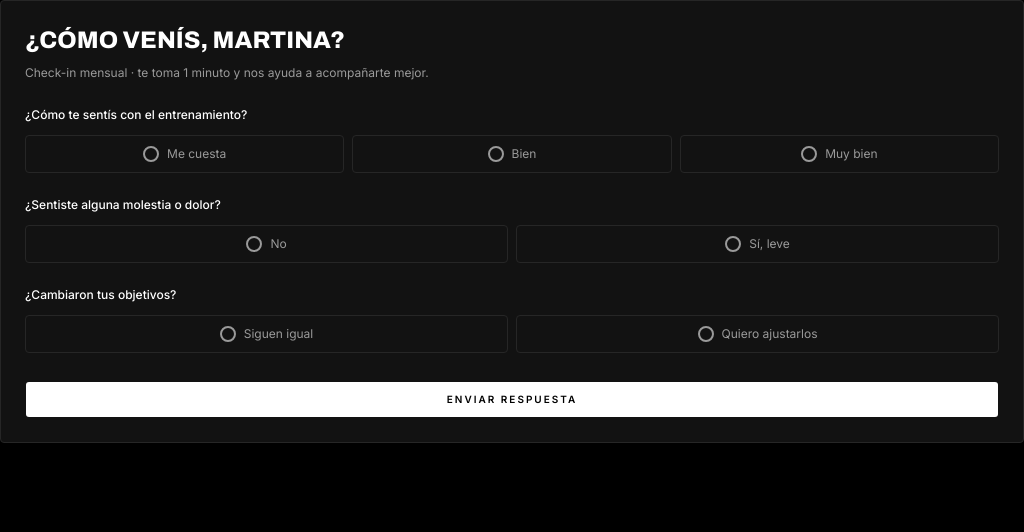
Test: CheckinForm › asks for every answer before sending
Step 1. Click the button "Enviar respuesta" → click(512, 399), box [25, 380, 999, 418]
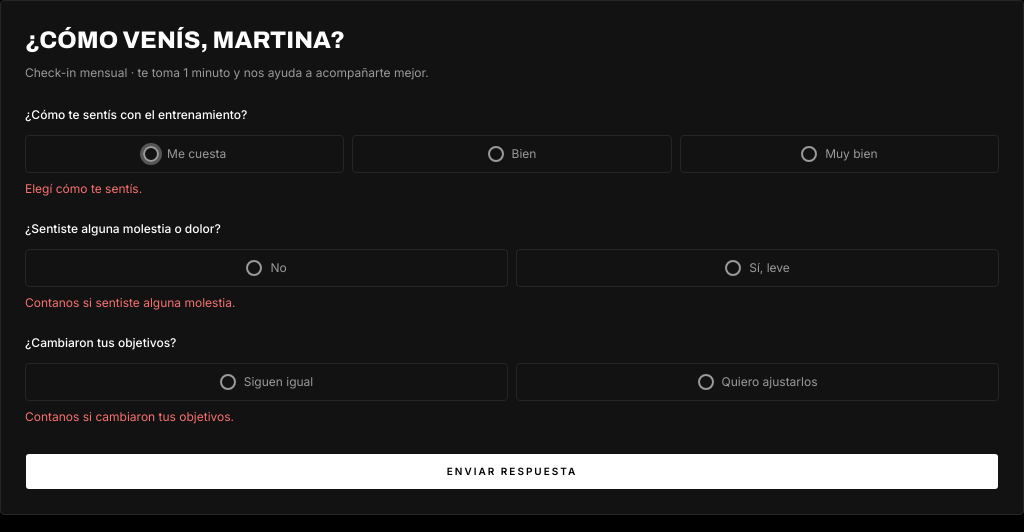
expect the text "Elegí cómo te sentís." is shown: met, box [25, 180, 142, 196]
